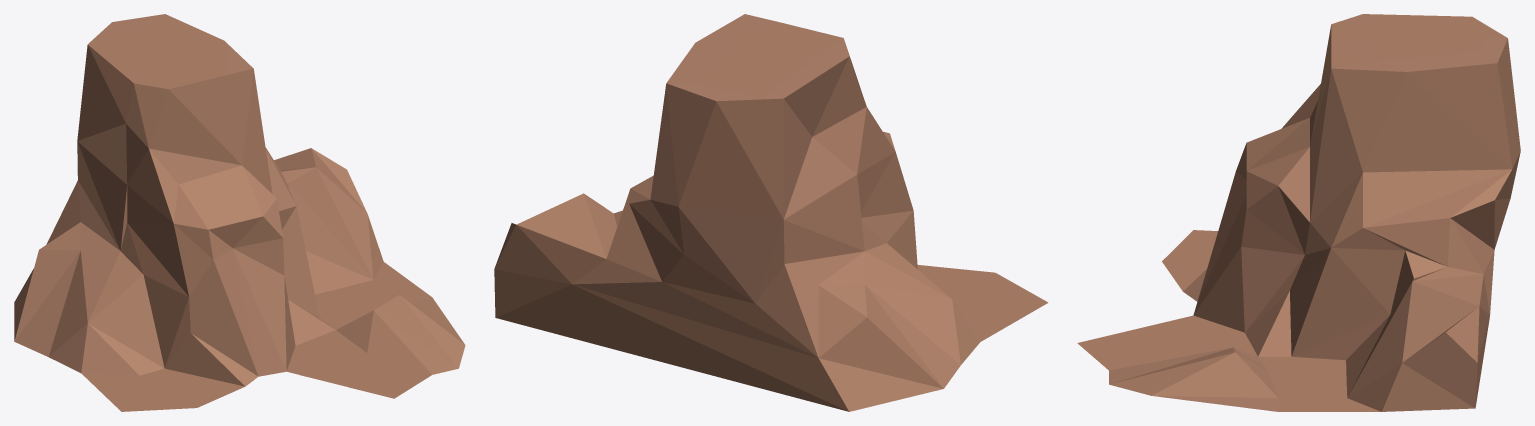
Rendered from 06 Mountain_1.FBX.
3 renders of one model, left to right at view 1: azimuth 30°, elevation 25°; view 2: azimuth 150°, elevation 25°; view 3: azimuth 270°, elevation 25°, orthographic. The views are drawn at different scales.
Parts seen in each view (by area): view 1: Mountain_1; view 2: Mountain_1; view 3: Mountain_1.
Boxes of the visible parts, <box> form: Mountain_1: <box>14,14,465,411</box>; Mountain_1: <box>494,14,1048,411</box>; Mountain_1: <box>1077,14,1520,411</box>.
Bounding box in the file's own units: 3113 × 2058 × 3133.
